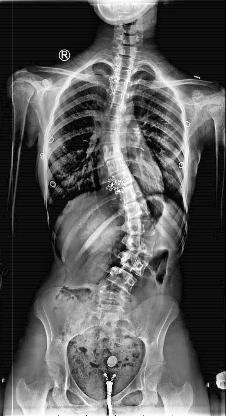Vertebrae: (121, 231, 161, 256), (104, 266, 144, 291), (115, 249, 155, 273), (91, 286, 131, 310), (126, 216, 160, 236), (120, 200, 154, 218), (107, 171, 138, 190), (102, 157, 132, 176), (98, 142, 128, 160), (118, 184, 147, 202), (98, 128, 126, 146), (100, 115, 127, 131), (106, 90, 132, 106), (102, 102, 128, 118), (114, 54, 138, 70), (112, 66, 136, 82), (110, 78, 134, 93)
